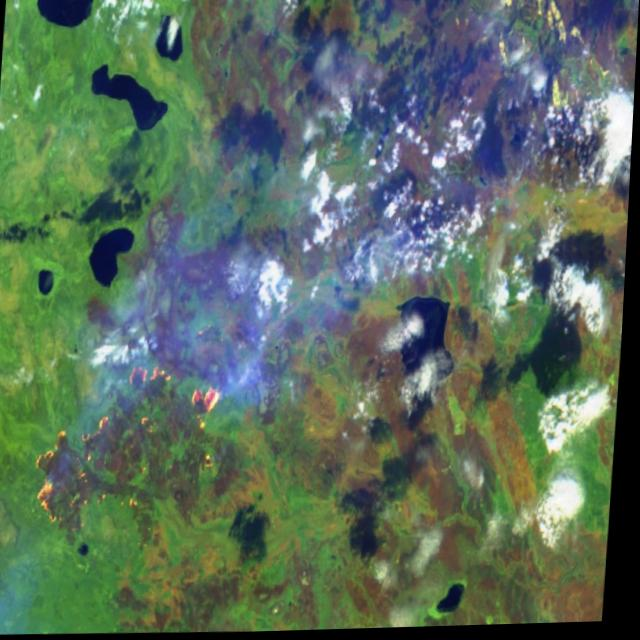fire: (32, 357, 232, 521)
